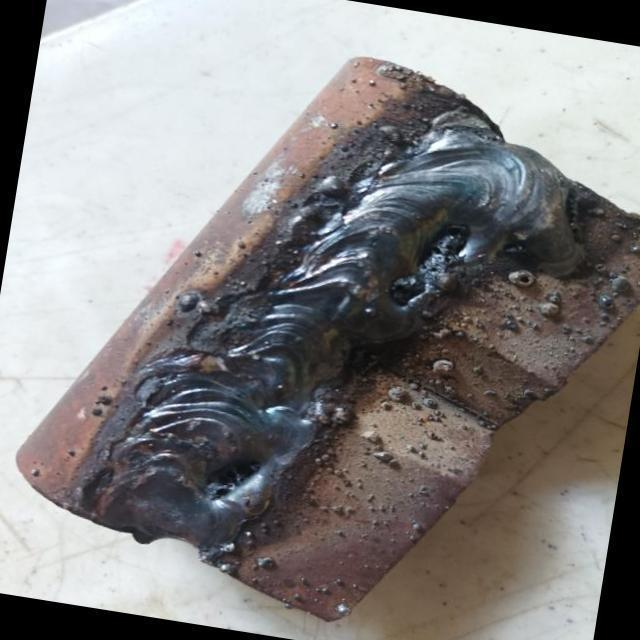defect: (388, 221, 472, 303), (199, 457, 271, 504)
